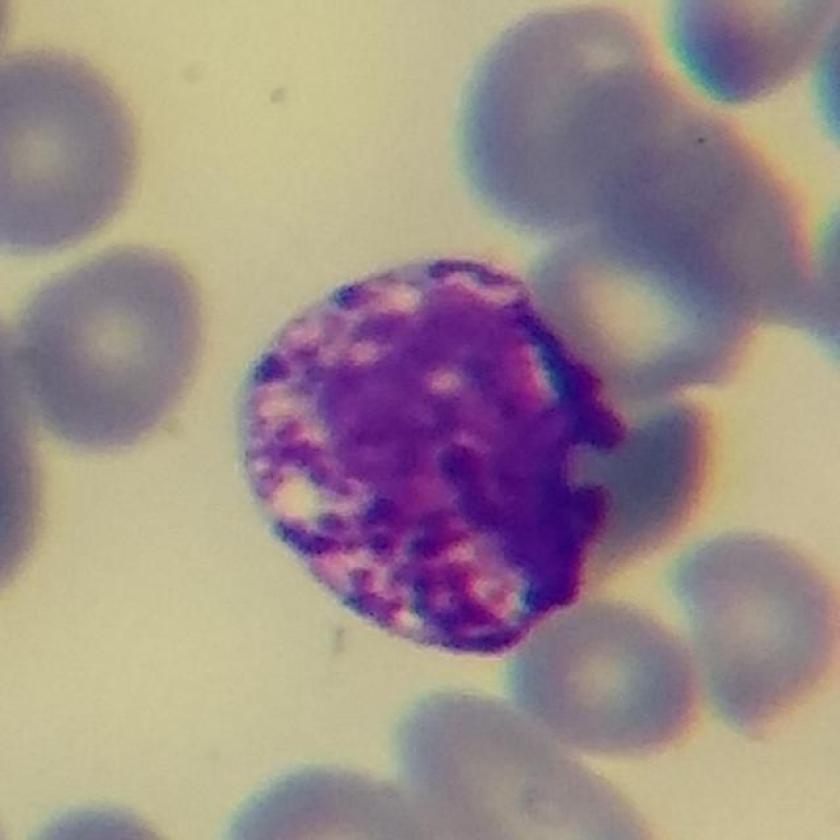basophil: (220, 240, 636, 668)
